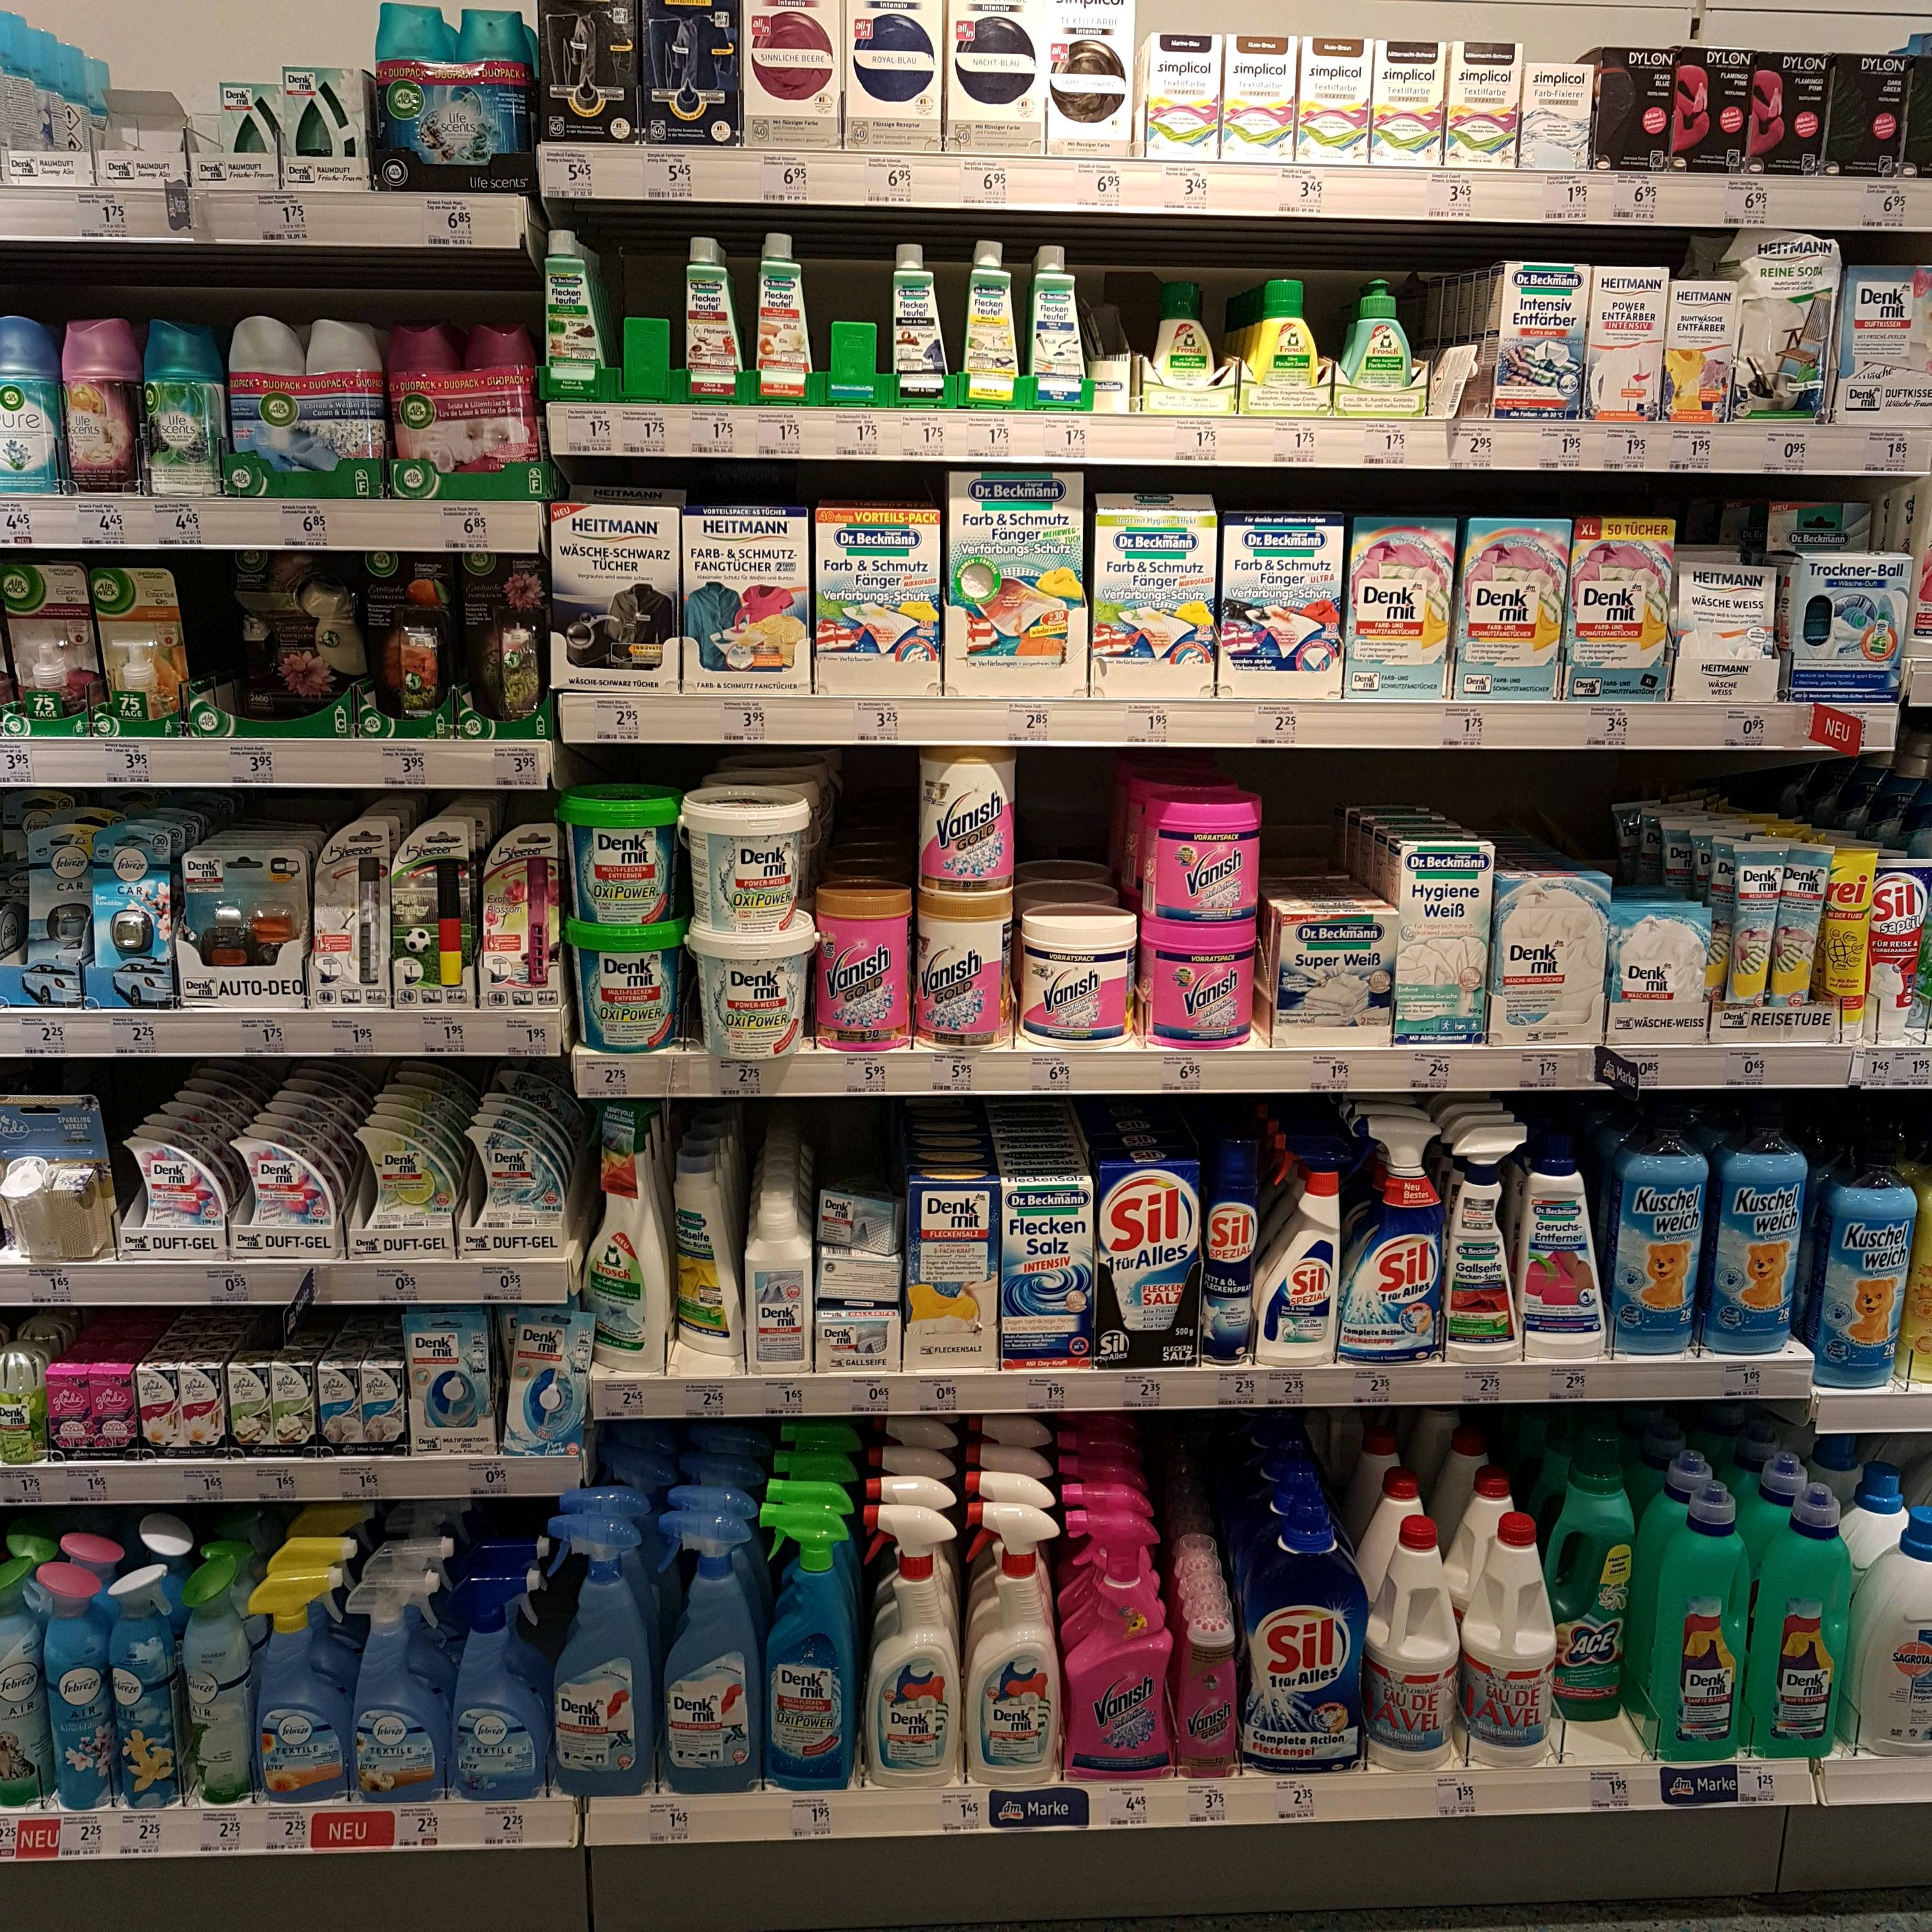Misplacement: (1551, 1406, 1657, 1762)
